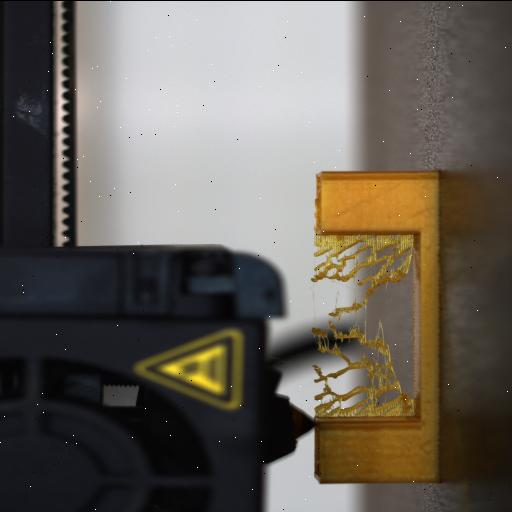stringing: (311, 234, 415, 416)
